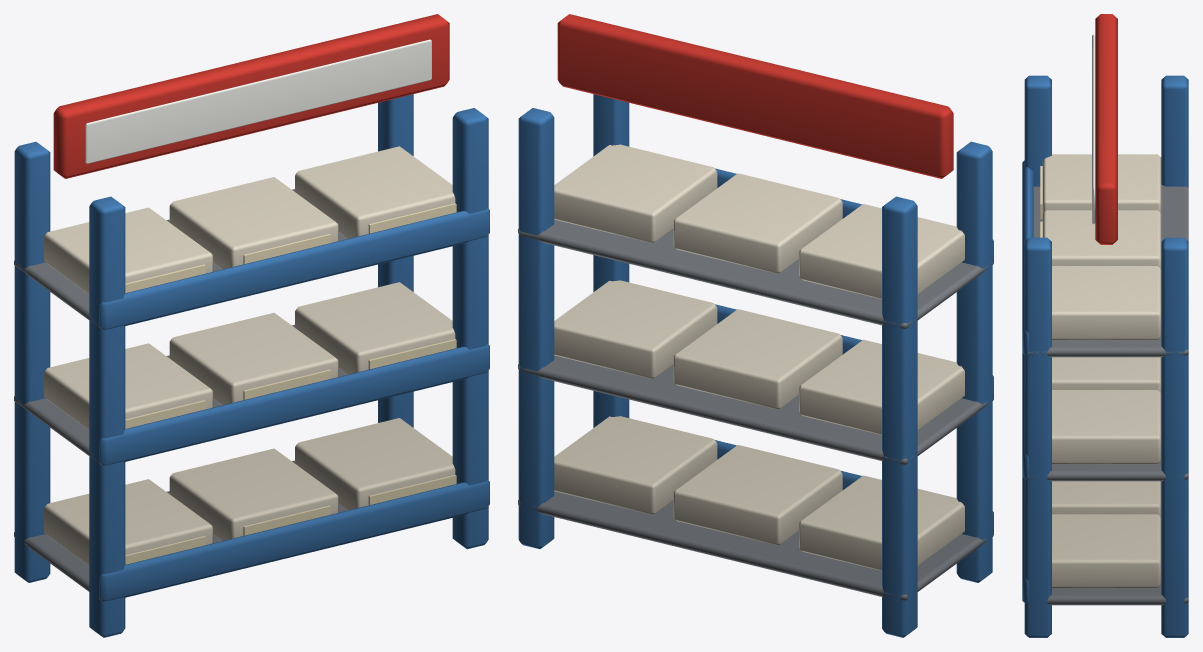
File: NewspaperRack_01.glb
The picture shows the model from 3 angles, left to right: view 1: azimuth 30°, elevation 25°; view 2: azimuth 150°, elevation 25°; view 3: azimuth 270°, elevation 25°; orthographic projection. The views are drawn at different scales.
Visible parts, largest first — view 1: SM_NewspaperRack_01; view 2: SM_NewspaperRack_01; view 3: SM_NewspaperRack_01.
Part boxes in pixels (box(x1,y1,x2,y2)): SM_NewspaperRack_01: box(14, 14, 489, 637); SM_NewspaperRack_01: box(518, 14, 993, 637); SM_NewspaperRack_01: box(1022, 14, 1188, 637).
Size of the model in its own units: 0.9 by 1.1 by 0.365.
1 material, 1 textured.
